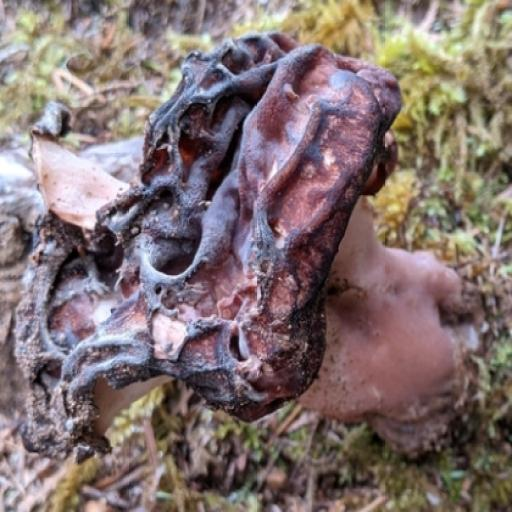mushroom: (14, 31, 418, 461)
